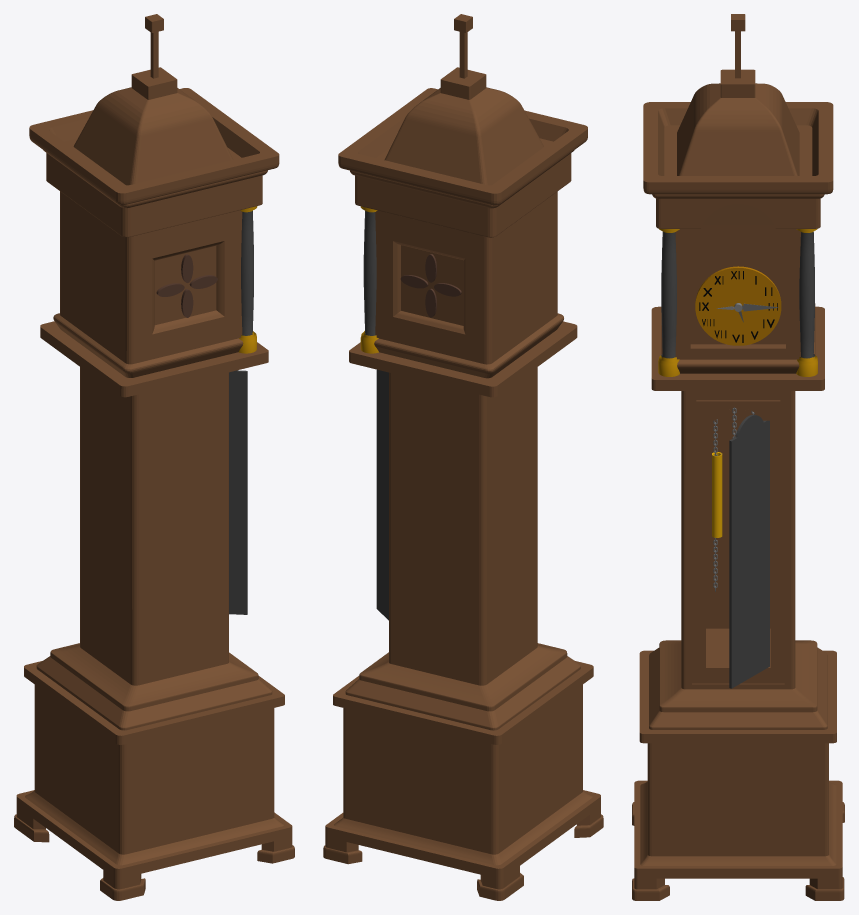
File: Reloj de pendulo.fbx
3 views of the same model, side by side, from view 1: azimuth 30°, elevation 25°; view 2: azimuth 150°, elevation 25°; view 3: azimuth 270°, elevation 25° (orthographic).
Visible parts, largest first — view 1: Base, Tapa de cristal, Pilares de soporte, Hornamenta Derecha; view 2: Base, Tapa de cristal, Pilares de soporte, Hornamenta Derecha; view 3: Base, Tapa de cristal, Reloj, Pilares de soporte, Pendulo 3.002, Text.006.
Part boxes in pixels (bbox=[...]): Base: bbox=[14, 14, 294, 900]; Tapa de cristal: bbox=[229, 370, 247, 614]; Pilares de soporte: bbox=[238, 206, 257, 353]; Hornamenta Derecha: bbox=[156, 254, 217, 317]; Base: bbox=[323, 14, 603, 900]; Tapa de cristal: bbox=[376, 369, 388, 620]; Pilares de soporte: bbox=[360, 206, 378, 353]; Hornamenta Derecha: bbox=[400, 254, 461, 317]; Base: bbox=[632, 14, 844, 900]; Tapa de cristal: bbox=[729, 414, 769, 688]; Reloj: bbox=[695, 266, 781, 345]; Pilares de soporte: bbox=[658, 228, 817, 376]; Pendulo 3.002: bbox=[712, 419, 722, 591]; Text.006: bbox=[699, 271, 777, 342].
Size of the model in its own units: 373 by 1626 by 374.
